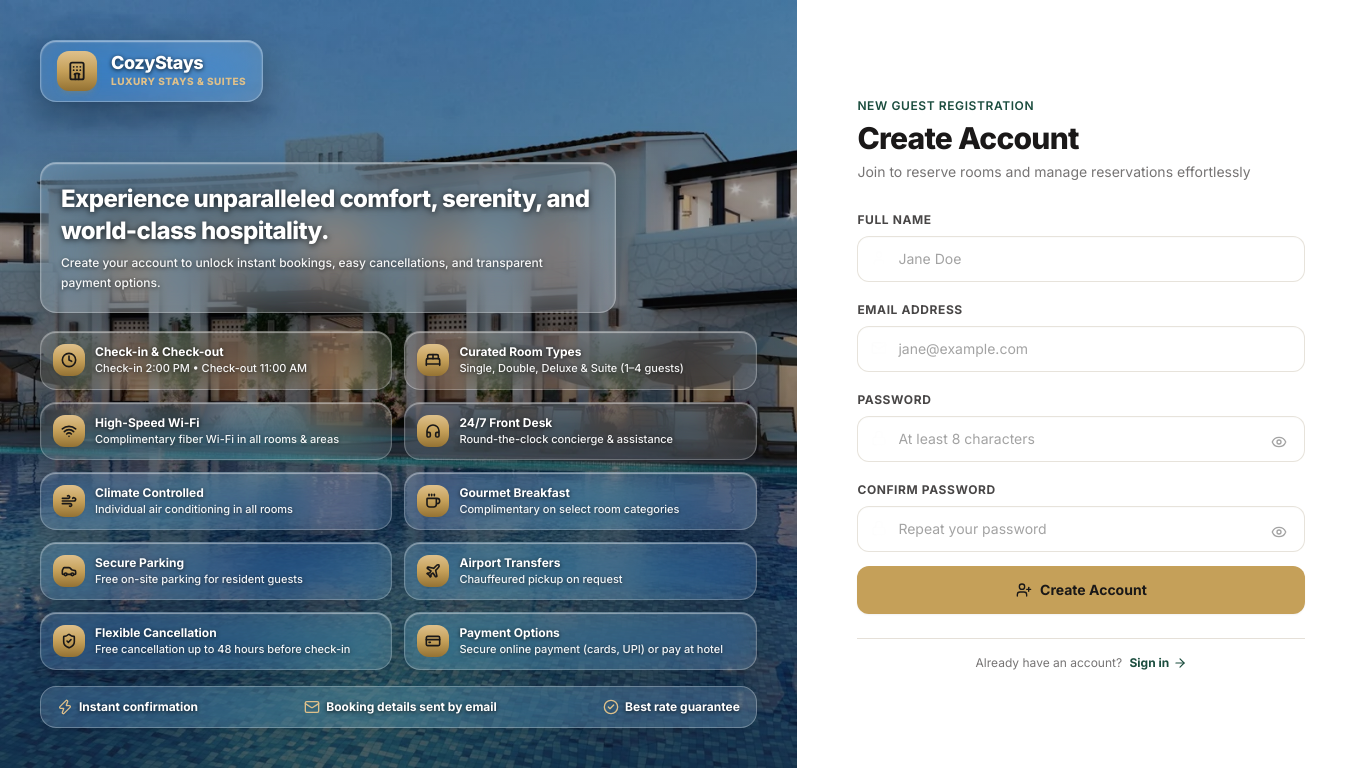
Register Page › shows validation error when passwords do not match
In the field labelled "Full Name": (1081, 258) [857,236,1305,282], type "Test User"
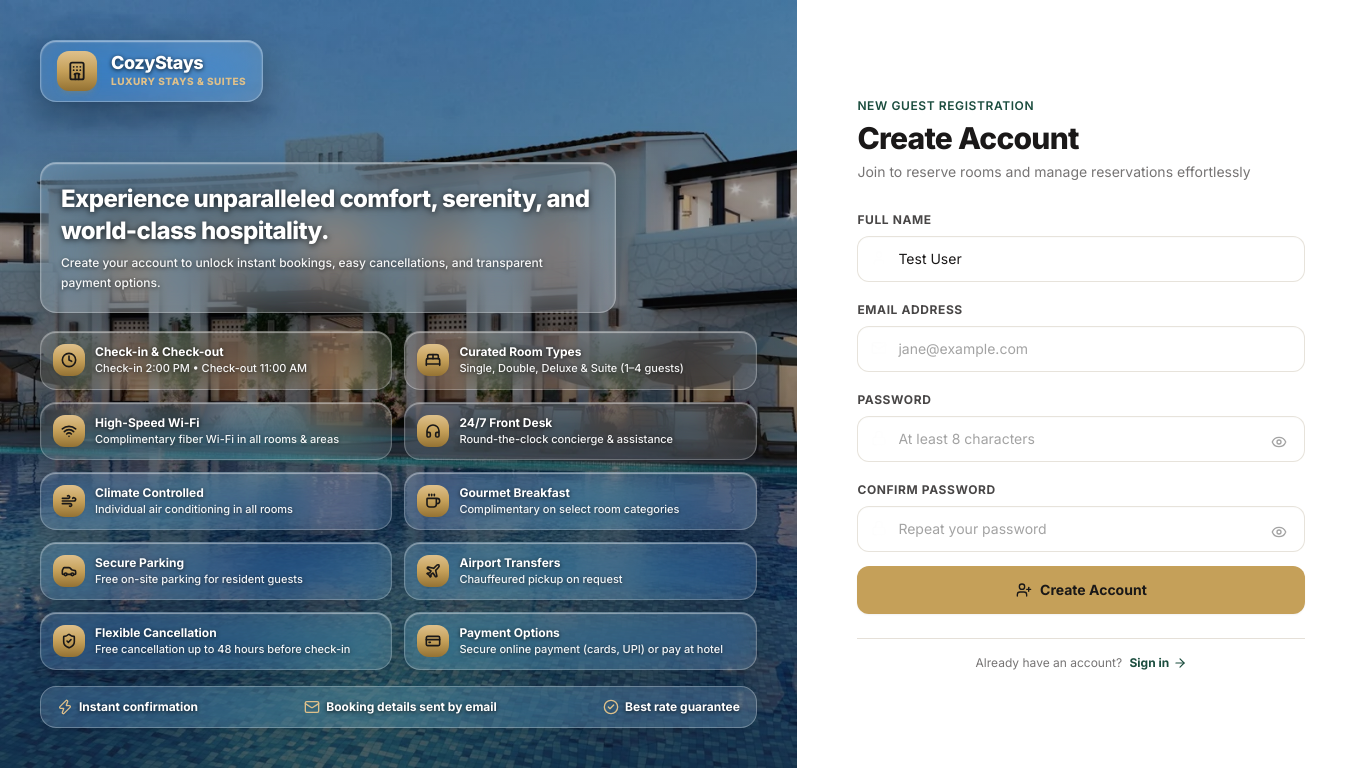
In the field labelled "Email Address": (1081, 348) [857,326,1305,372], type "test@example.com"
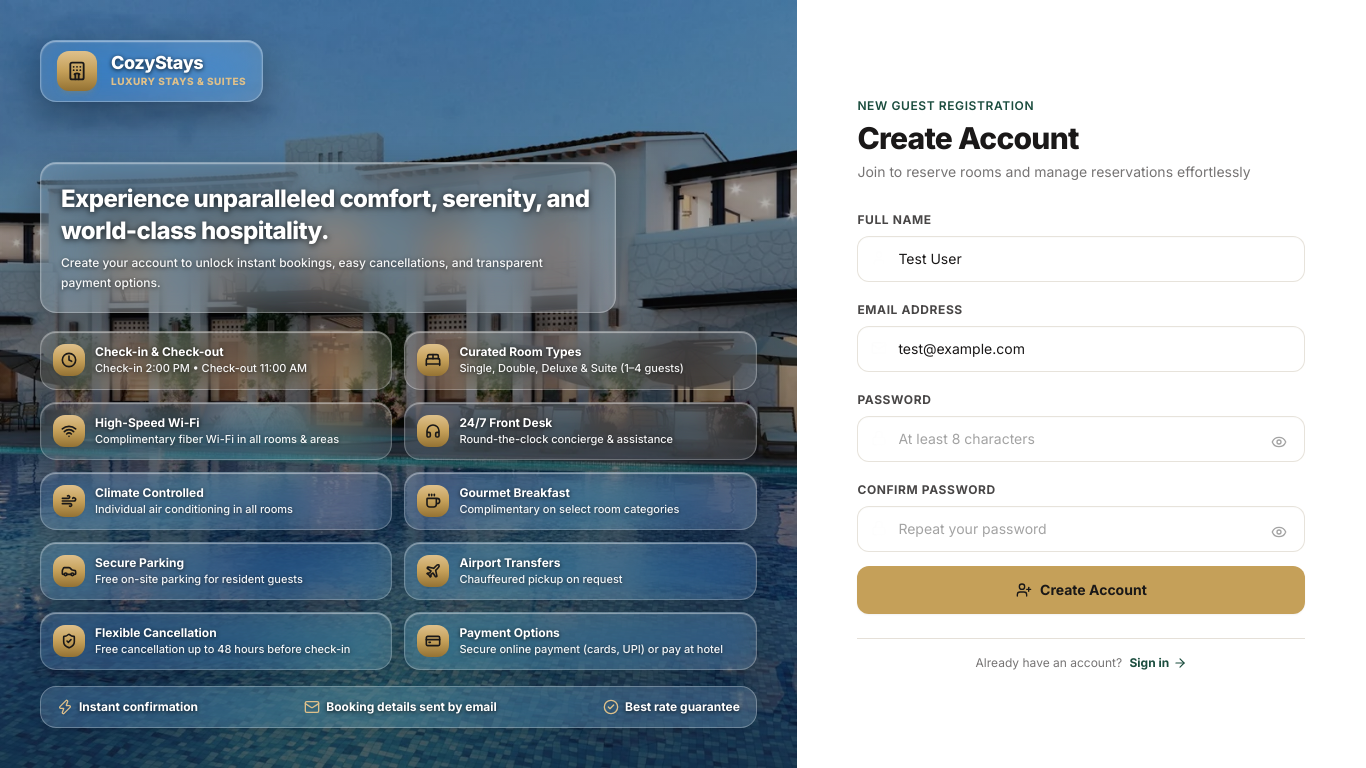
In the password field labelled "Password": (1081, 438) [857,416,1305,462], type "password123"
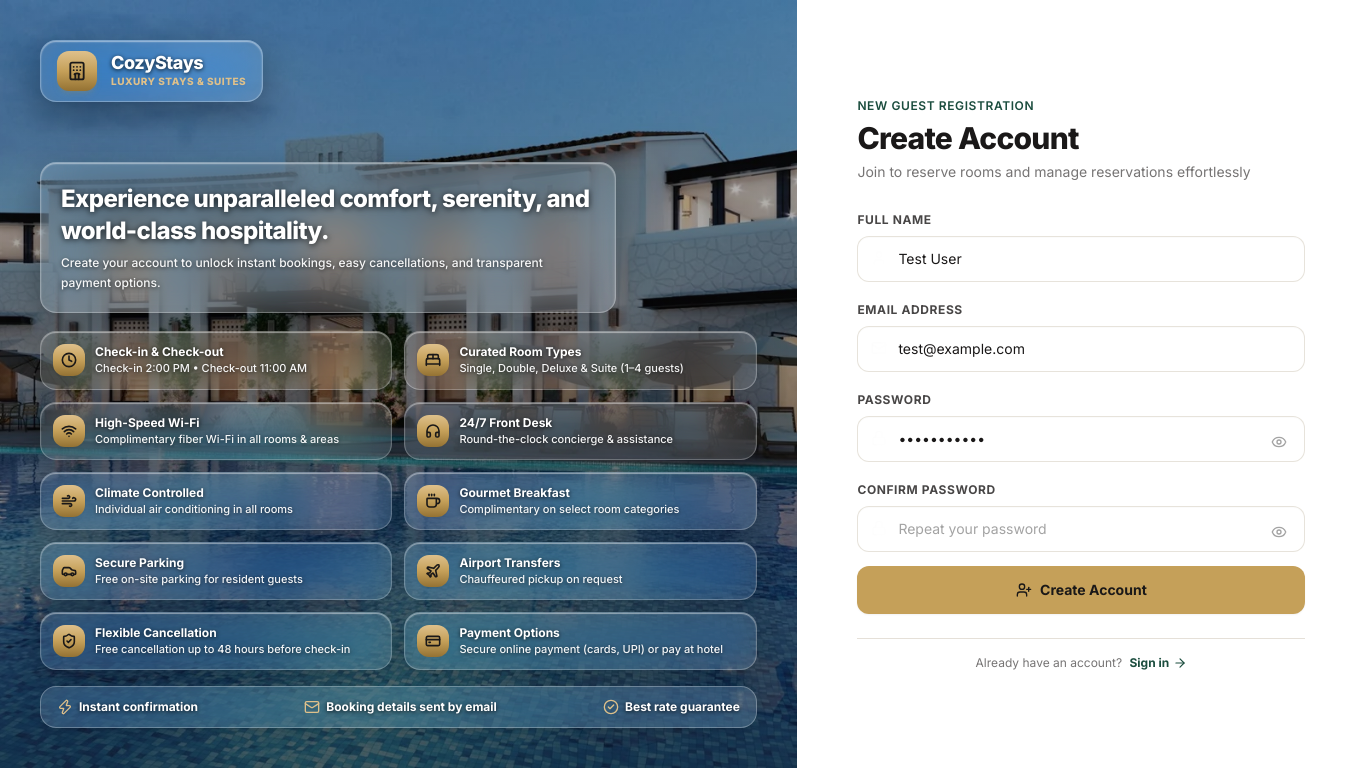
In the password field labelled "Confirm Password": (1081, 528) [857,506,1305,552], type "password456"
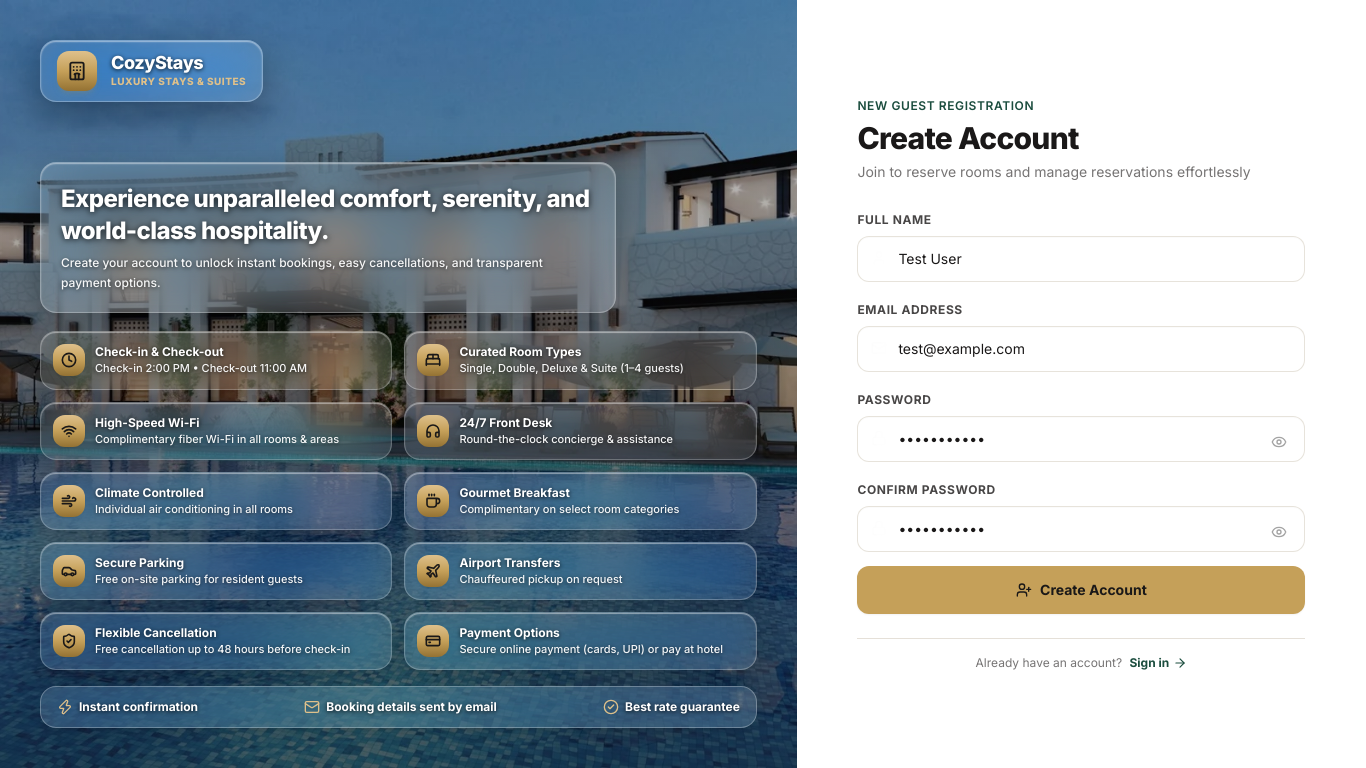
Click the button "Create Account": (1081, 590) [857,566,1305,614]
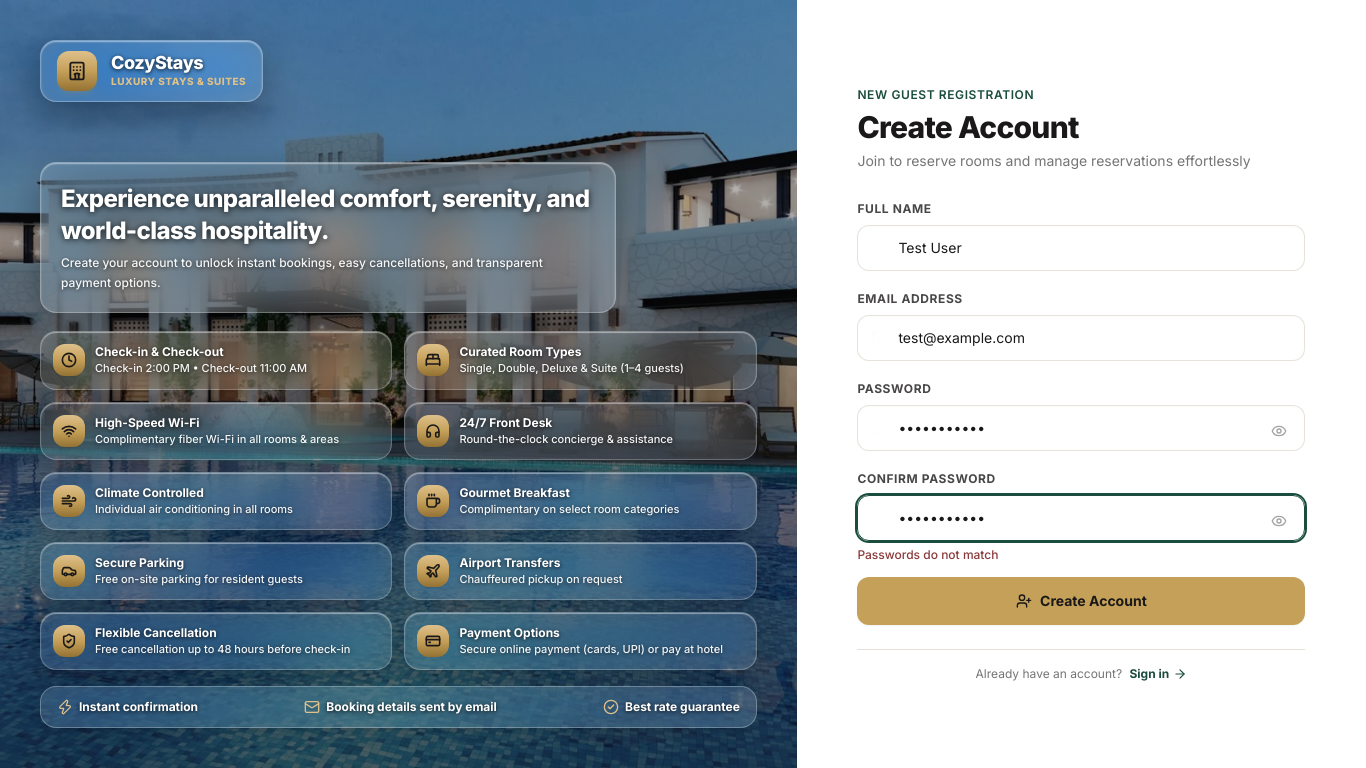
Expected: the text "Passwords do not match" is shown, [857,546,998,562]
